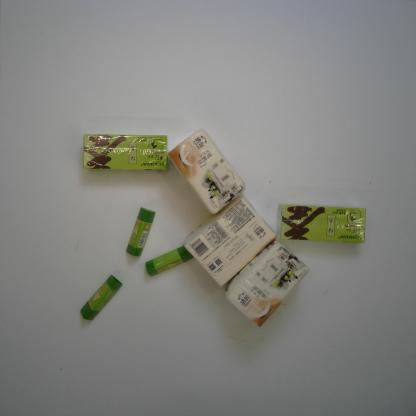Instant Drink: (276, 203, 366, 243), (83, 134, 168, 171)
Stationery: (79, 274, 123, 321), (145, 245, 194, 278), (125, 207, 156, 257)
Tissue: (183, 195, 278, 289), (224, 240, 310, 328), (168, 128, 246, 215)
